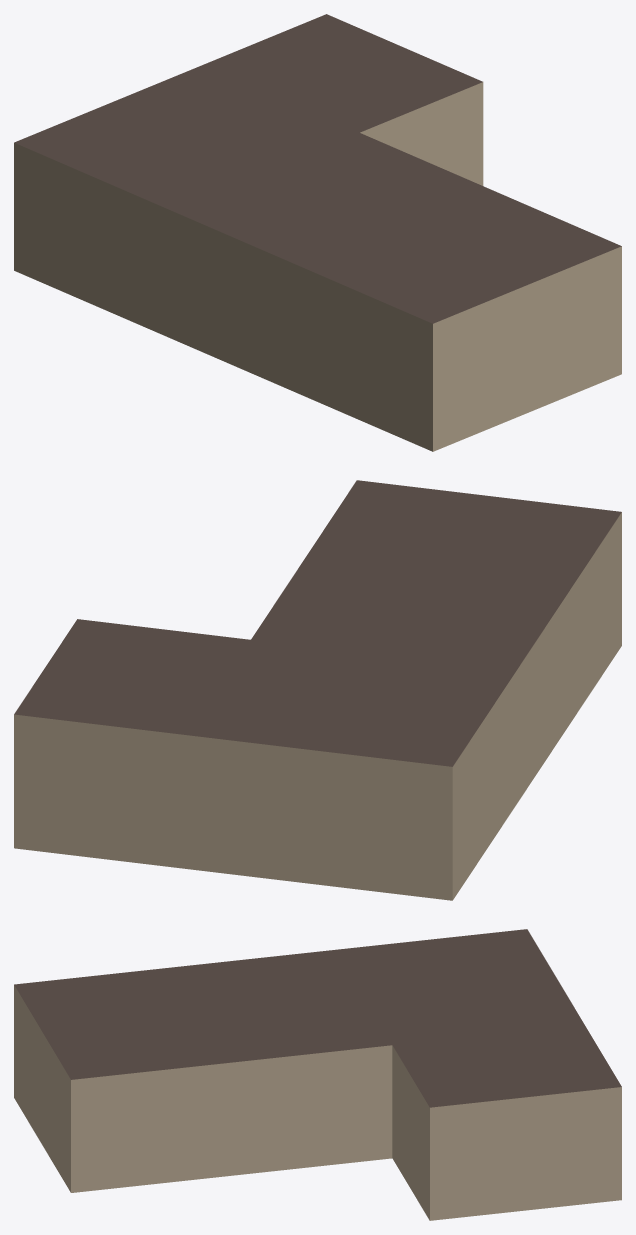
3 renders of one model, top to bottom at view 1: azimuth 30°, elevation 25°; view 2: azimuth 150°, elevation 25°; view 3: azimuth 270°, elevation 25°, orthographic. The views are drawn at different scales.
Parts seen in each view (by area): view 1: HP-w859467783; view 2: HP-w859467783; view 3: HP-w859467783.
Part boxes in pixels (bbox=[...]): HP-w859467783: bbox=[14, 14, 621, 451]; HP-w859467783: bbox=[14, 480, 621, 900]; HP-w859467783: bbox=[14, 929, 621, 1220].
Size of the model in its own units: 30.46 by 9 by 43.82.
